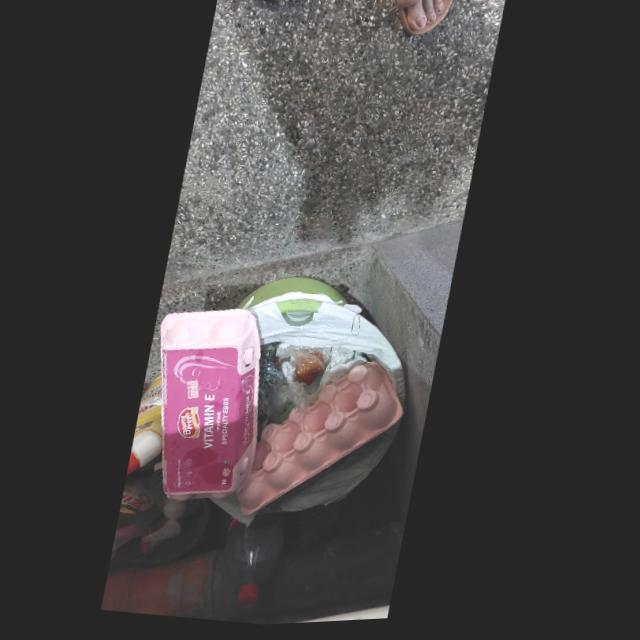plastic: (242, 365, 409, 519), (163, 309, 265, 502), (132, 382, 168, 475)
